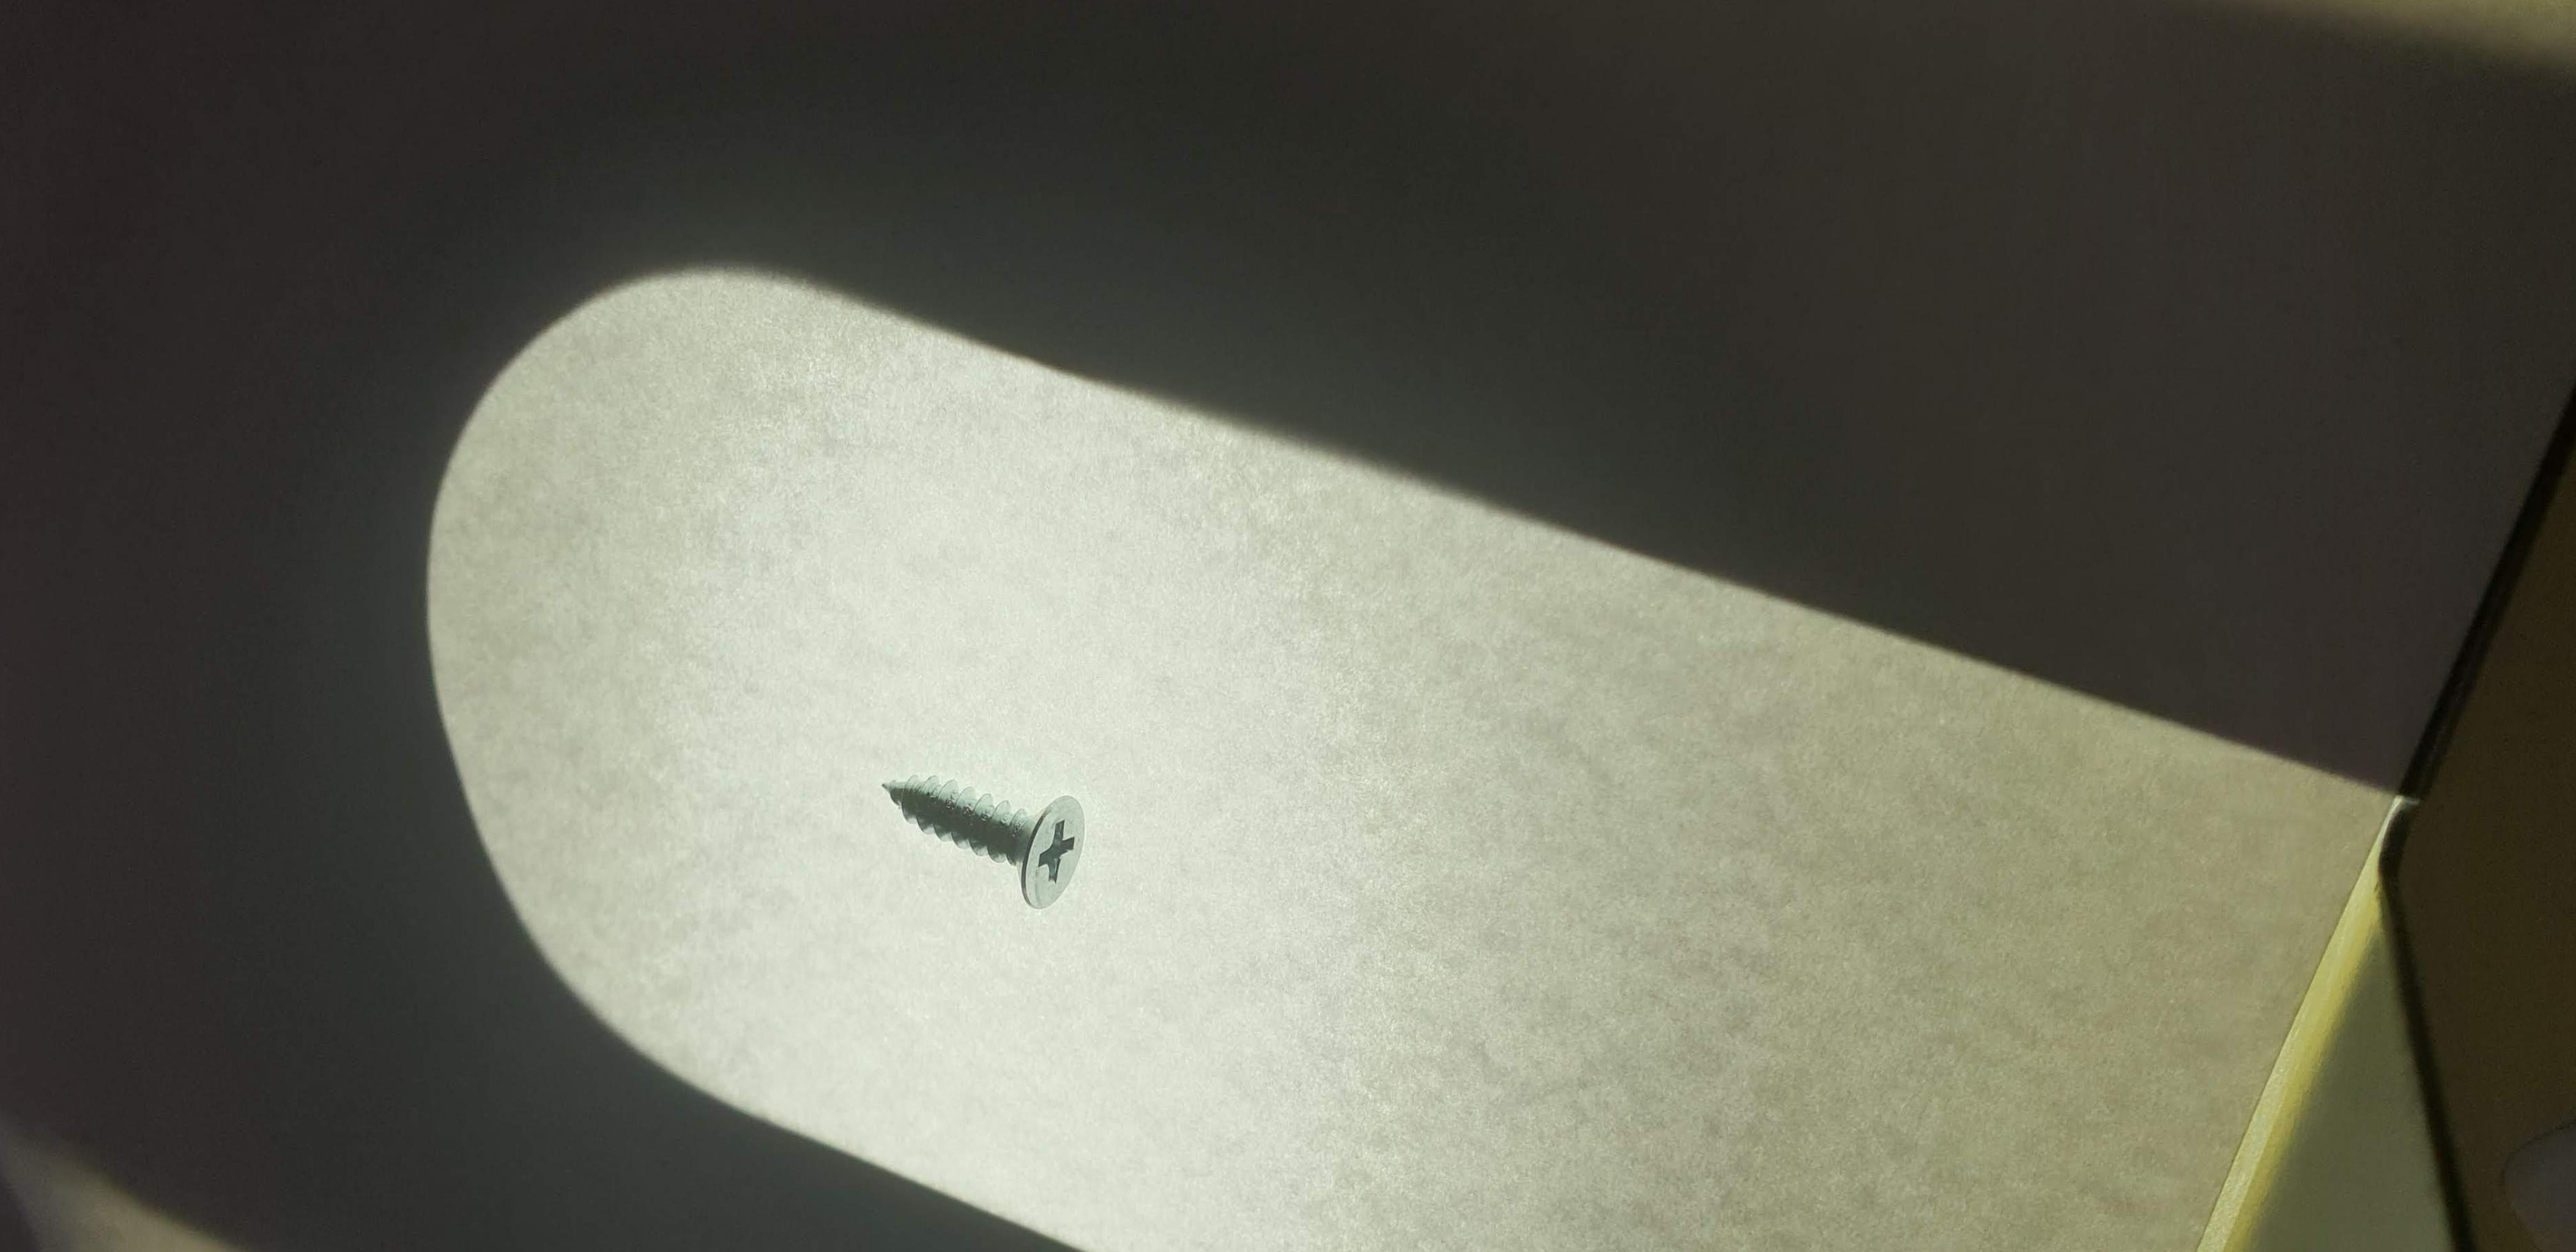S003: (858, 746, 1107, 922)
